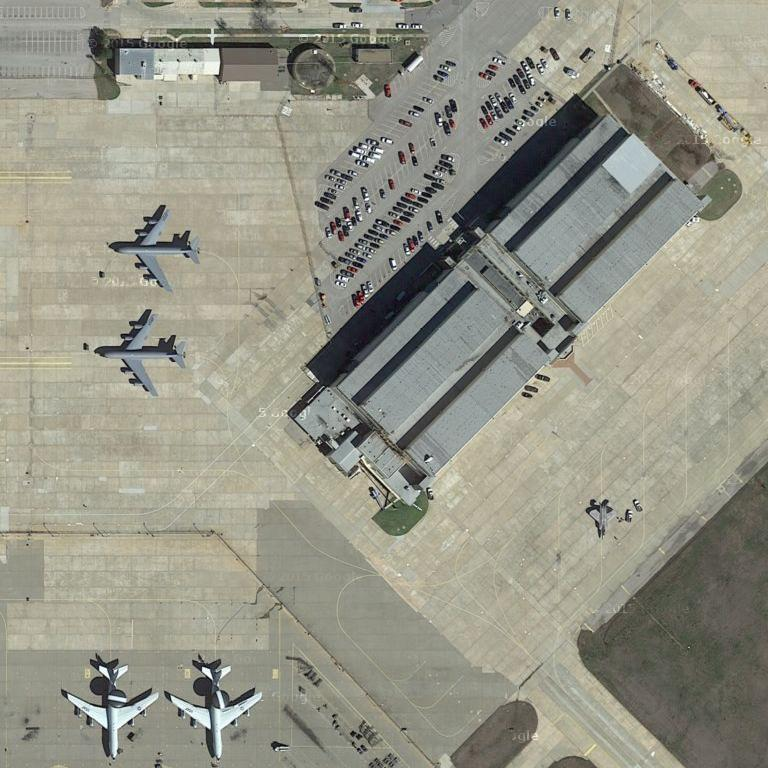E-3: (60, 652, 166, 759), (163, 654, 268, 762)
F-22: (581, 496, 619, 542)
KC-135: (107, 201, 206, 295), (93, 305, 192, 399)
